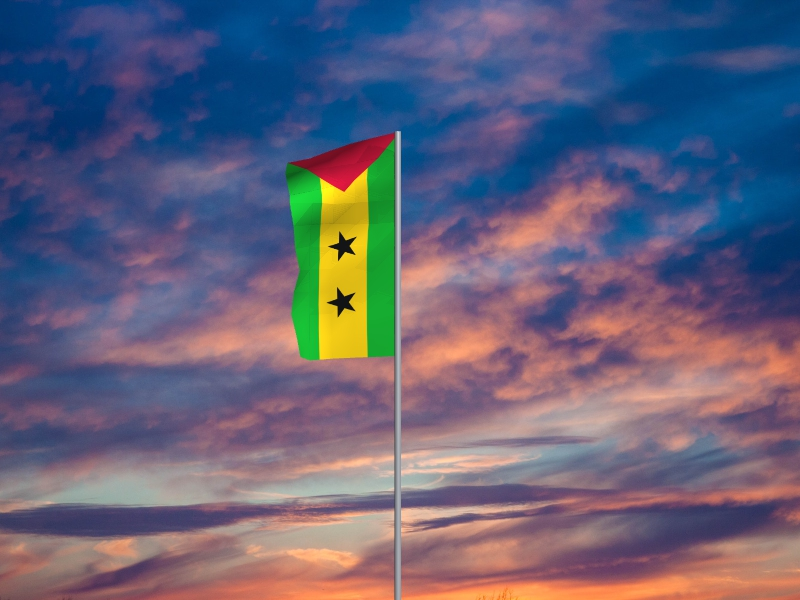st: (286, 133, 394, 361)
